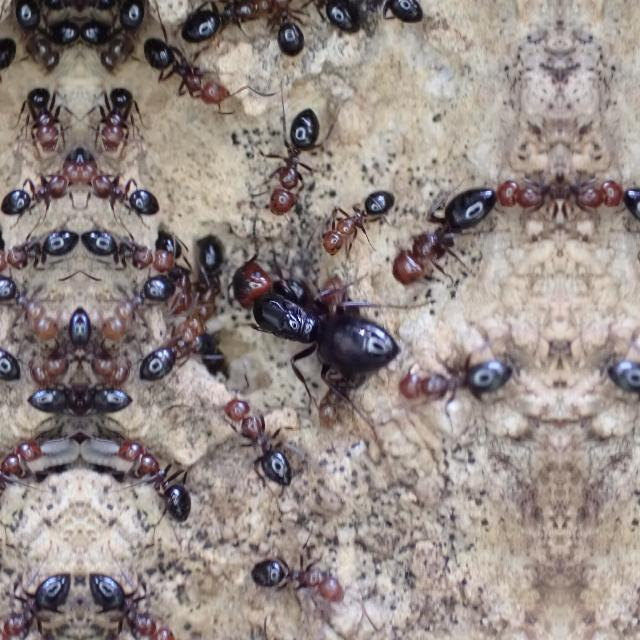Camponotus: (232, 248, 404, 376), (384, 177, 492, 296), (390, 344, 516, 426), (218, 384, 300, 496), (138, 27, 234, 115), (260, 98, 326, 220), (118, 434, 196, 530), (247, 544, 349, 614), (317, 178, 398, 262), (84, 565, 168, 639), (0, 565, 76, 639), (103, 268, 175, 342), (140, 310, 208, 388), (81, 217, 165, 273), (492, 158, 558, 228), (562, 158, 628, 228), (181, 0, 273, 48), (87, 166, 163, 224), (0, 217, 78, 273), (324, 0, 431, 40), (0, 166, 72, 224), (0, 432, 42, 530), (0, 267, 56, 340), (99, 0, 151, 76), (9, 0, 61, 76), (80, 304, 130, 382), (30, 304, 80, 382), (191, 229, 229, 331), (97, 82, 139, 156), (21, 82, 63, 156), (604, 342, 640, 426), (261, 0, 309, 60), (80, 372, 132, 424), (28, 372, 80, 424), (166, 244, 198, 318), (317, 0, 367, 38), (41, 0, 80, 48), (80, 0, 118, 48), (0, 27, 20, 115), (0, 310, 20, 388), (80, 125, 100, 188), (60, 125, 80, 188)
